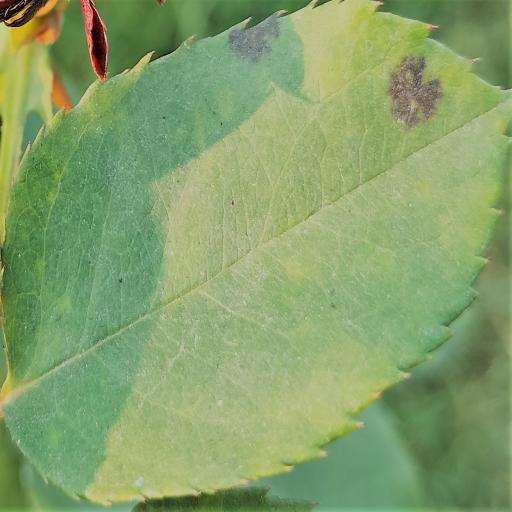black_spot: (2, 2, 509, 502)
